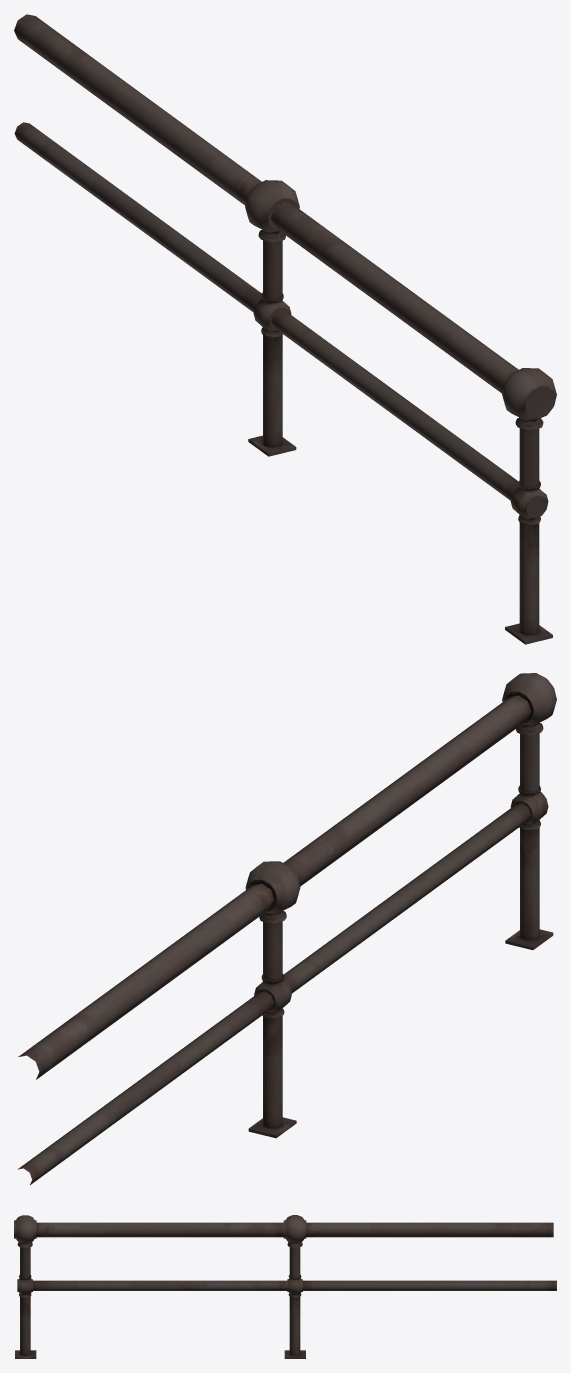
3 renders of one model, top to bottom at view 1: azimuth 30°, elevation 25°; view 2: azimuth 150°, elevation 25°; view 3: azimuth 270°, elevation 25°, orthographic. The views are drawn at different scales.
Parts seen in each view (by area): view 1: body0_model0_lod0_mesh0; view 2: body0_model0_lod0_mesh0; view 3: body0_model0_lod0_mesh0.
Part boxes in pixels (<box>): body0_model0_lod0_mesh0: <box>14,14,556,644</box>; body0_model0_lod0_mesh0: <box>17,673,556,1184</box>; body0_model0_lod0_mesh0: <box>14,1215,556,1358</box>.
Bounding box in the file's own units: 6.82 × 36.33 × 129.
Materials: 1 (1 with a texture image).
